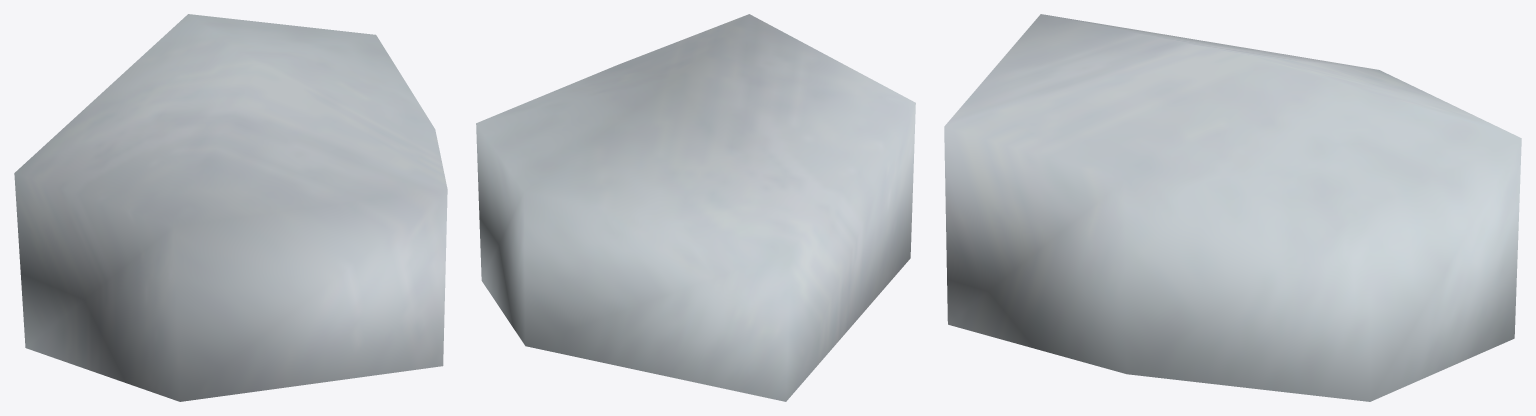
The model's file is Rock_7_Snow.fbx.
The picture shows the model from 3 angles, left to right: view 1: azimuth 30°, elevation 25°; view 2: azimuth 150°, elevation 25°; view 3: azimuth 270°, elevation 25°; orthographic projection. The views are drawn at different scales.
Parts seen in each view (by area): view 1: Rock_7_Snow; view 2: Rock_7_Snow; view 3: Rock_7_Snow.
Part boxes in pixels (box(x1,y1,x2,y2)): Rock_7_Snow: box(14, 14, 447, 401); Rock_7_Snow: box(476, 14, 915, 401); Rock_7_Snow: box(944, 14, 1521, 401).
Bounding box in the file's own units: 57.25 × 42.59 × 71.02.
